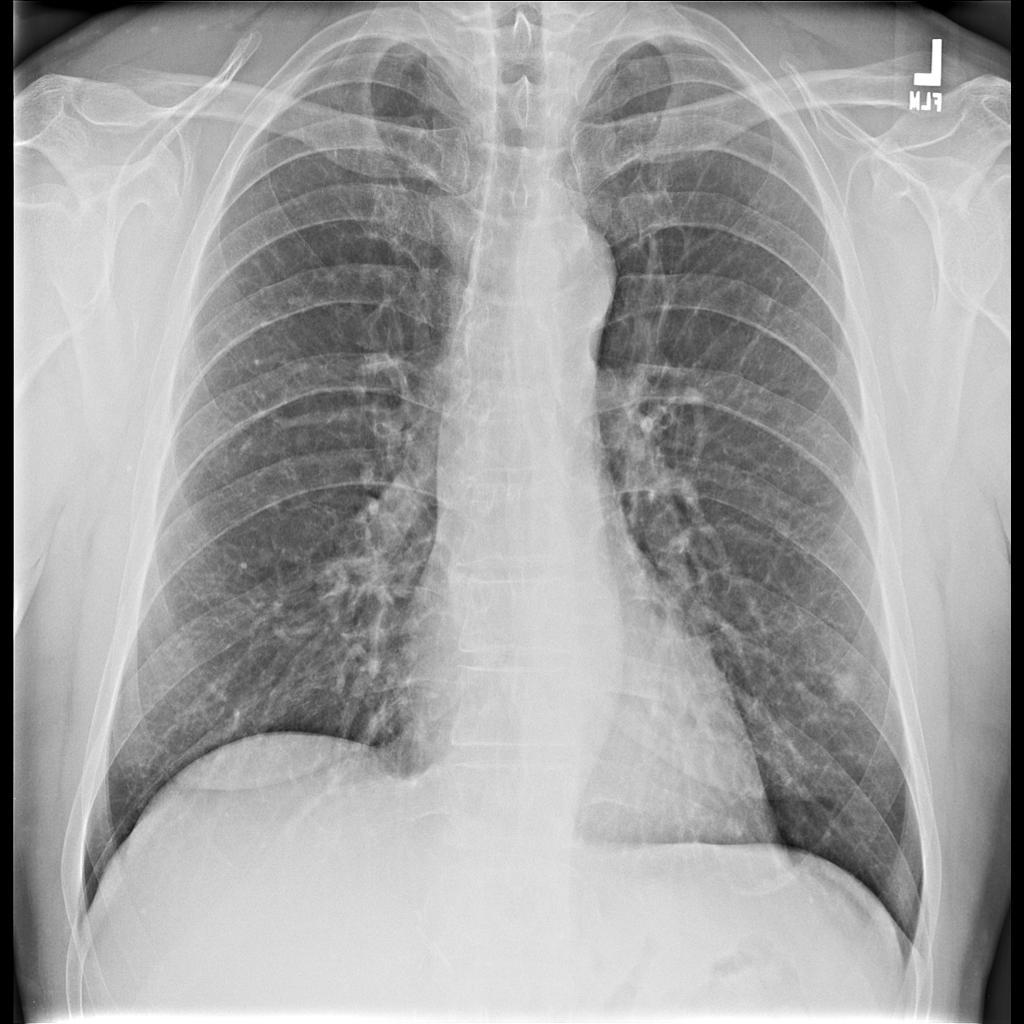Nodule: (832, 664, 866, 710)
